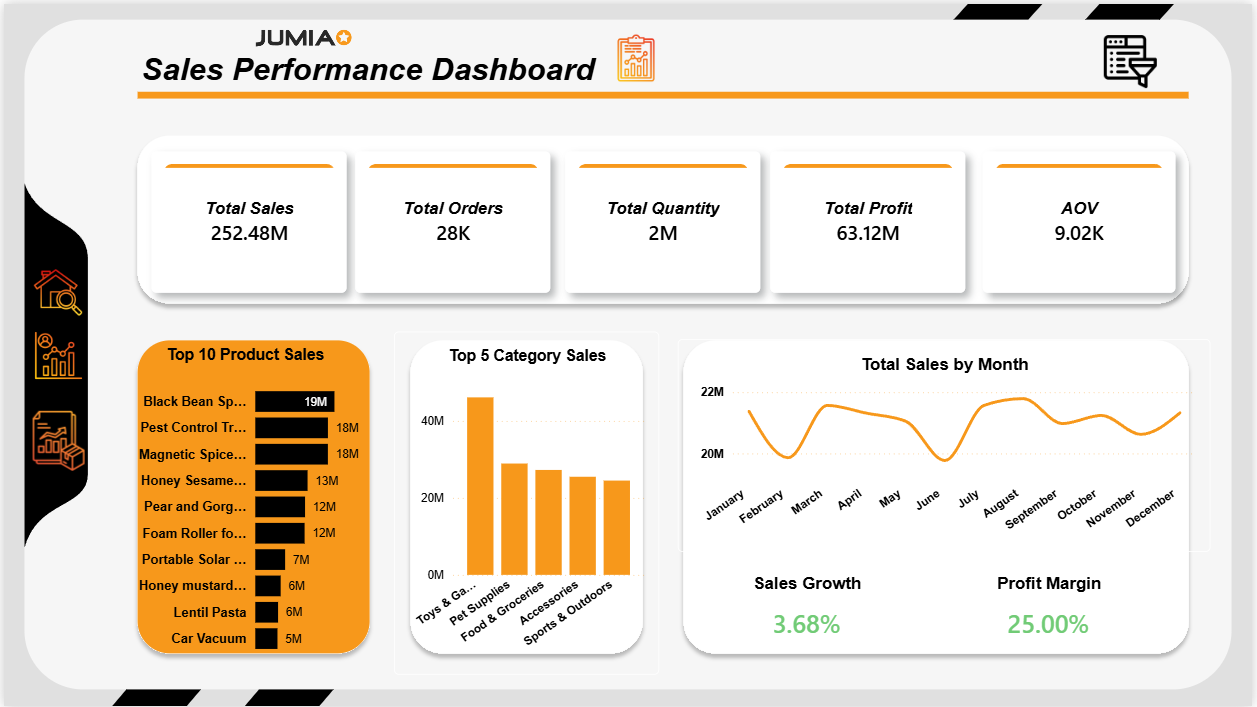

The page's visual inventory and layout, read from the dashboard file:
{"tool":"powerbi","page":{"name":"Sales","canvas":[1280,720],"ordinal":1},"visuals":[{"type":"textbox","box":[141.3,16.5,963.3,134.5],"z":0},{"type":"image","box":[193.5,0,223.7,68.6],"z":1000},{"type":"cardVisual","fields":{"Data":["address.Totalsales"]},"box":[150.8,150.8,200.3,144.8],"z":2000},{"type":"cardVisual","fields":{"Data":["address.Totalorders"]},"box":[360.7,150.8,200.3,144.8],"z":3000},{"type":"cardVisual","fields":{"Data":["address.TotalQuantity"]},"box":[575.5,150.8,200.3,144.8],"z":4000},{"type":"cardVisual","fields":{"Data":["address.Profit"]},"box":[785.4,150.8,200.3,144.8],"z":5000},{"type":"cardVisual","title":"Average Order Value","fields":{"Data":["address.AOV"]},"box":[1003.8,150.8,197.9,144.8],"z":6000},{"type":"barChart","title":"Top 10  Product Sales","fields":{"Category":["products.ProductName"],"Y":["address.Total Sales"]},"box":[112,336,272,352],"z":7000},{"type":"lineChart","title":"Total Sales by Month","fields":{"Category":["calendar.DATE.Variation.Date Hierarchy.Month"],"Y":["address.Total Sales"]},"box":[691.6,343.1,546.1,218.2],"z":8000},{"type":"cardVisual","title":"Sales Growth","fields":{"Data":["address.sales growth"]},"box":[714.9,583.2,215.4,79.6],"z":9000},{"type":"cardVisual","title":"Profit Margin","fields":{"Data":["address.Profit Margin"]},"box":[942.7,583.2,258,79.6],"z":10000},{"type":"clusteredColumnChart","title":"Top 5 Category Sales ","fields":{"Category":["categories.CategoryName"],"Y":["address.Total Sales"]},"box":[400,336,272,352],"z":11000},{"type":"image","box":[1087.4,16.1,135.3,84.4],"z":12000},{"type":"image","box":[0,320,112,80],"z":21000},{"type":"image","box":[16,240,80,112],"z":22000},{"type":"image","box":[0,400,112,96],"z":23000},{"type":"image","box":[560,16,176,80],"z":24000}]}

Visuals, with their boxes in screenshot pixels (x1, y1, x2, y2), scaled from the page's 1280x720 canvas onto the 1257x707 screenshot:
textbox: [139, 16, 1085, 148]
image: [190, 0, 410, 67]
cardVisual - address.Totalsales: [148, 148, 345, 290]
cardVisual - address.Totalorders: [354, 148, 551, 290]
cardVisual - address.TotalQuantity: [565, 148, 762, 290]
cardVisual - address.Profit: [771, 148, 968, 290]
"Average Order Value" cardVisual: [986, 148, 1180, 290]
"Top 10  Product Sales" barChart: [110, 330, 377, 676]
"Total Sales by Month" lineChart: [679, 337, 1215, 551]
"Sales Growth" cardVisual: [702, 573, 914, 651]
"Profit Margin" cardVisual: [926, 573, 1179, 651]
"Top 5 Category Sales " clusteredColumnChart: [393, 330, 660, 676]
image: [1068, 16, 1201, 99]
image: [0, 314, 110, 393]
image: [16, 236, 94, 346]
image: [0, 393, 110, 487]
image: [550, 16, 723, 94]
